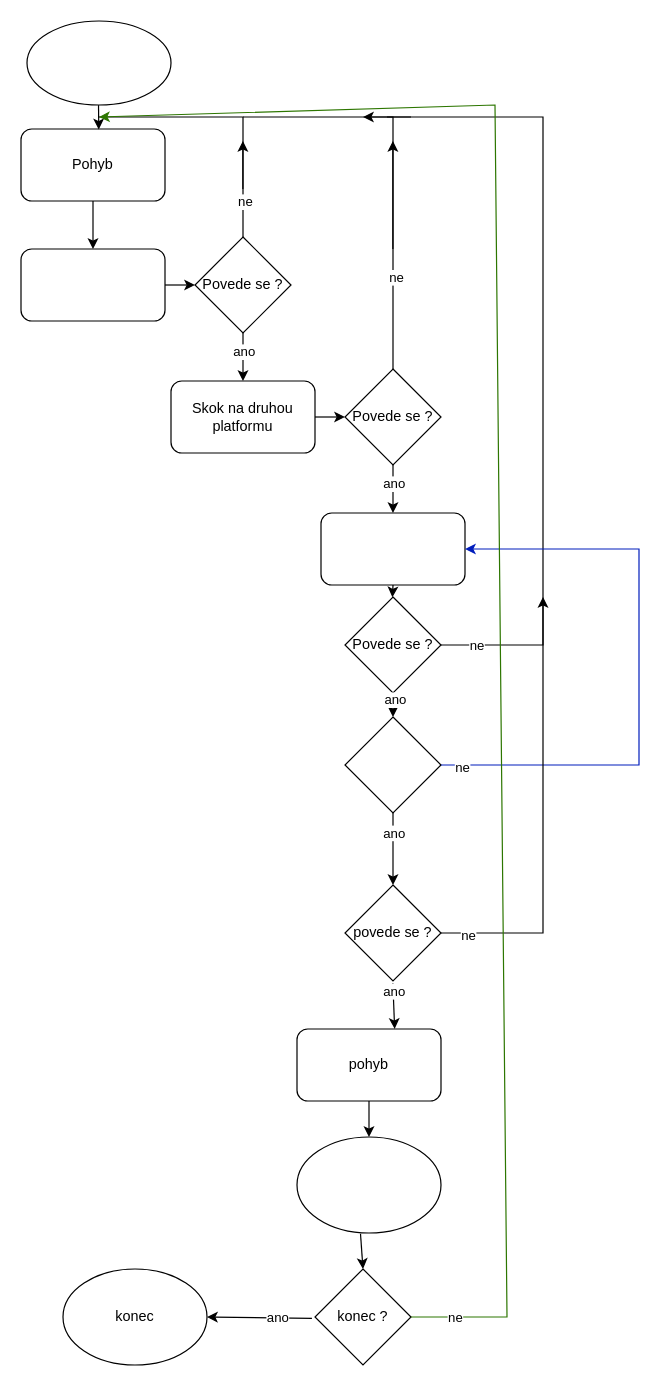
The diagram is 670 pixels wide and 1386 high, and some of its shapes have lost their labels. The shapes that lost their labels are listed below. From the top down, each one's centre as x and y in pixels, then its label:
At point (98, 62): "start".
At point (92, 284): "Skok na první platforma".
At point (392, 548): "Skok na další platformu".
At point (392, 764): "skočit přes propast ?".
At point (368, 1184): "konec úrovně".
